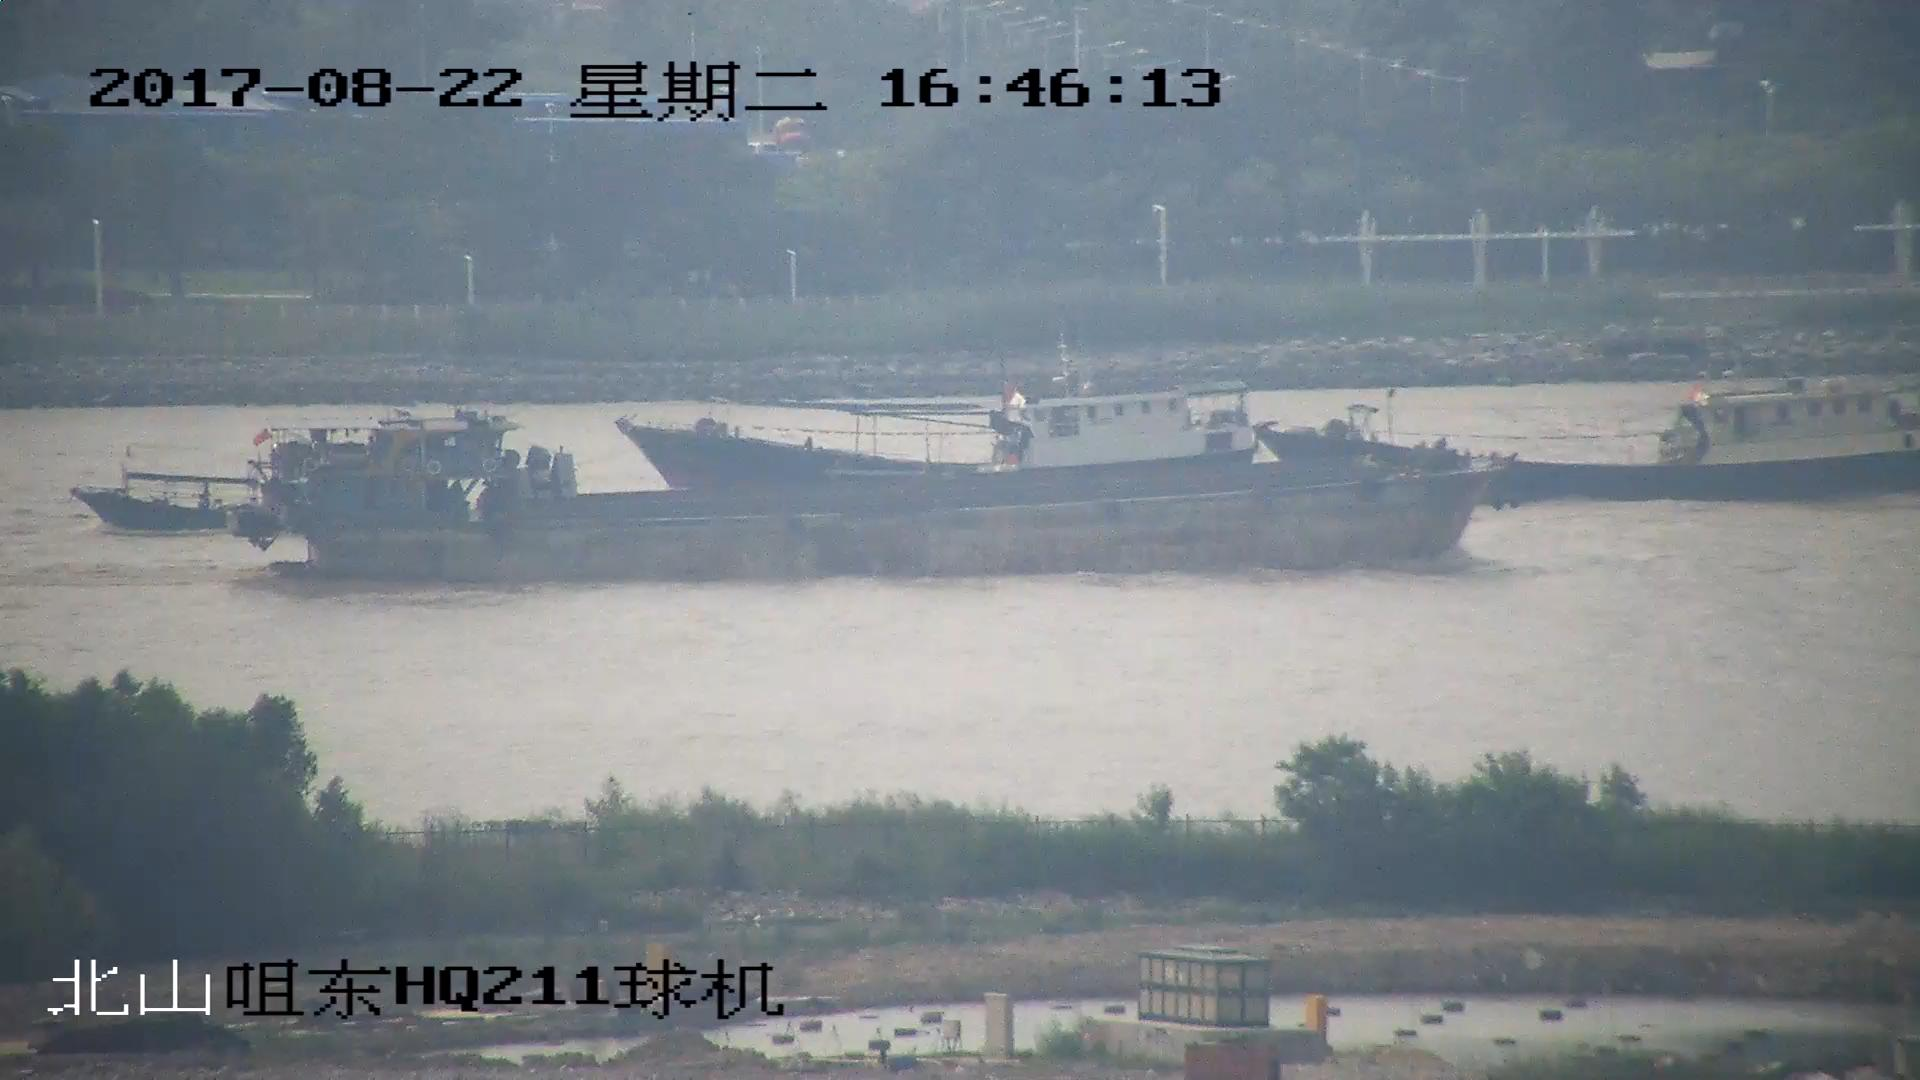bulk cargo carrier: (244, 414, 1506, 580)
fishing boat: (1257, 377, 1920, 505), (623, 373, 1253, 493), (76, 450, 318, 539)
